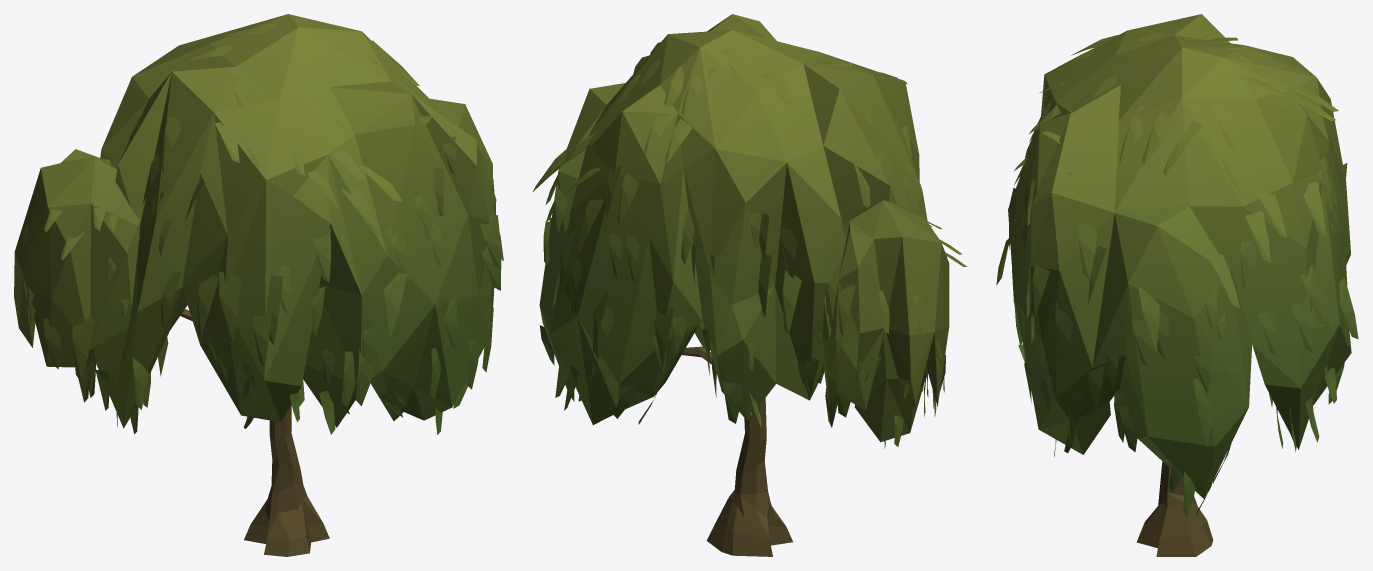
Rendered from zone1-stone4.glb.
3 renders of one model, left to right at view 1: azimuth 30°, elevation 25°; view 2: azimuth 150°, elevation 25°; view 3: azimuth 270°, elevation 25°, orthographic.
Parts seen in each view (by area): view 1: tree-willow-weeping-generic-young-a.001; view 2: tree-willow-weeping-generic-young-a.001; view 3: tree-willow-weeping-generic-young-a.001.
Boxes of the visible parts, <box> form: tree-willow-weeping-generic-young-a.001: <box>14,14,503,556</box>; tree-willow-weeping-generic-young-a.001: <box>533,14,966,556</box>; tree-willow-weeping-generic-young-a.001: <box>996,14,1358,556</box>.
Size of the model in its own units: 8.17 by 9.38 by 6.15.
2 materials, 1 textured.
